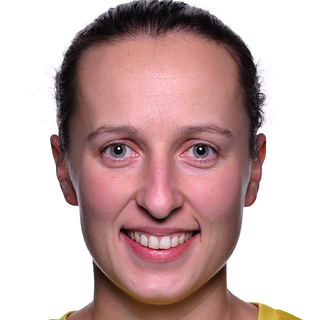eye: (94, 139, 143, 166), (171, 139, 222, 164)
